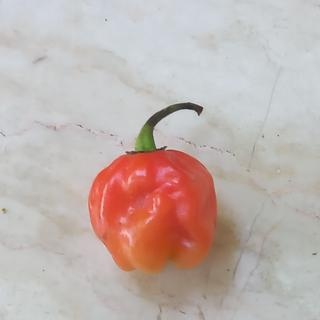Grade-B: (80, 144, 220, 271)
